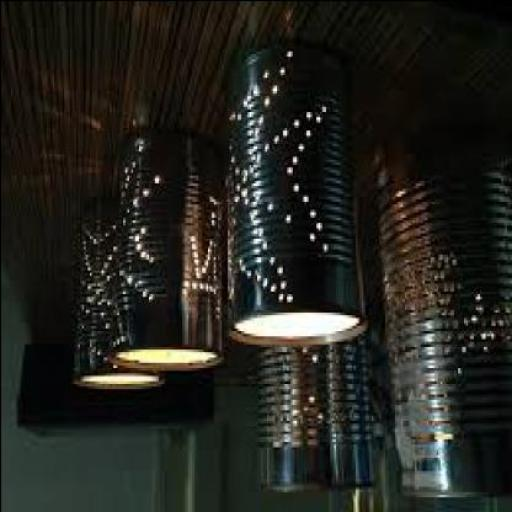metal: (374, 142, 511, 500), (228, 42, 369, 348), (112, 129, 224, 372), (73, 192, 166, 390), (260, 338, 378, 493)
